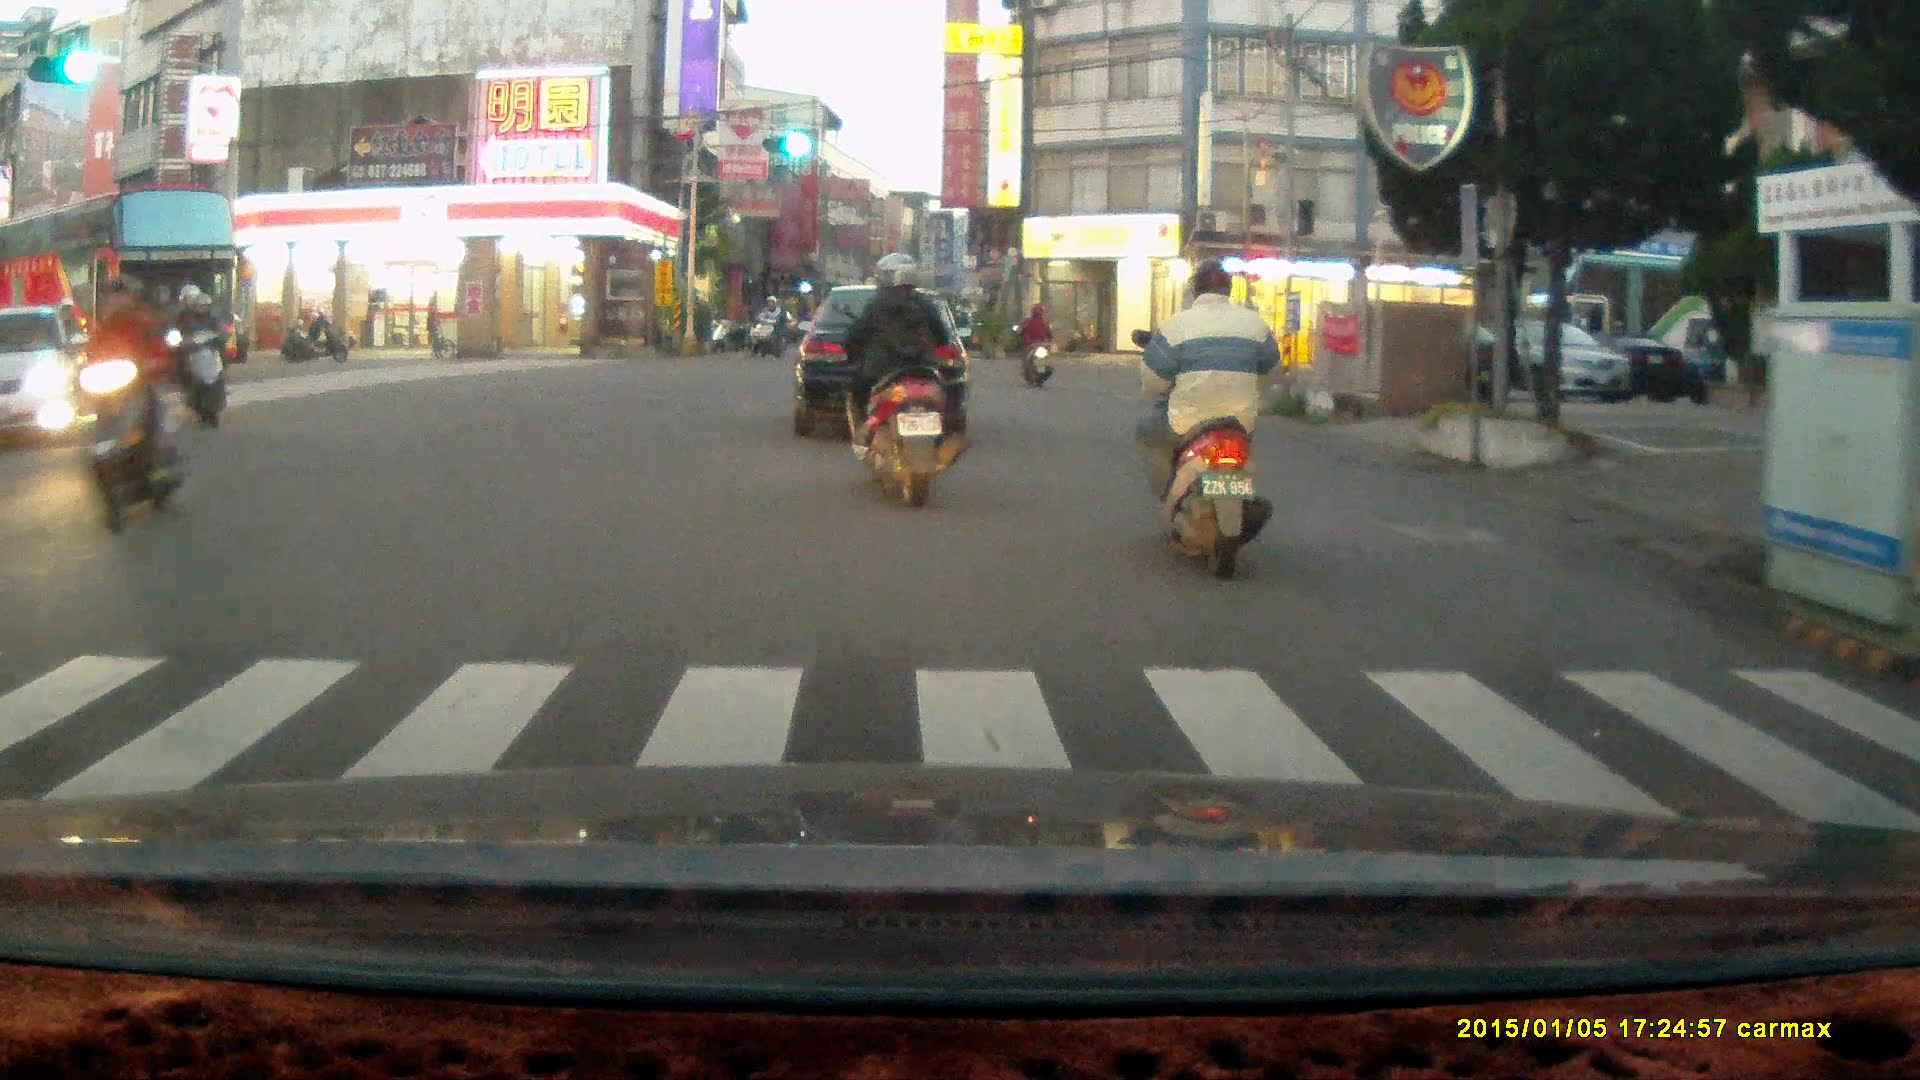rider: (1131, 248, 1281, 569), (831, 245, 972, 512), (60, 275, 186, 533), (165, 279, 228, 425), (1007, 298, 1055, 389), (747, 290, 781, 355)
vehicle: (1, 189, 241, 398), (1427, 315, 1636, 401), (1, 307, 82, 444)
